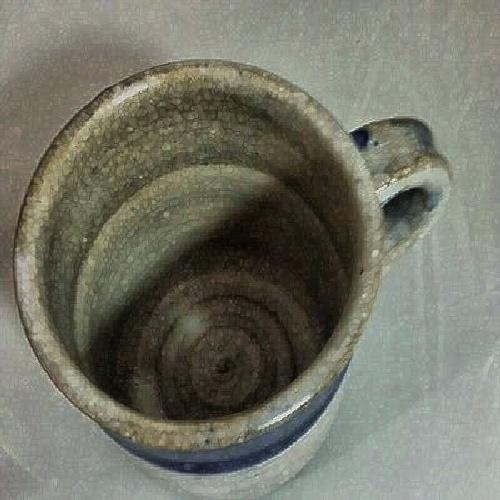mug: (23, 71, 438, 473)
